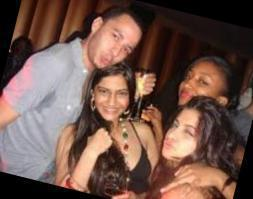Drunk: (94, 17, 140, 68), (162, 110, 202, 160), (179, 63, 223, 105), (94, 76, 129, 120)
